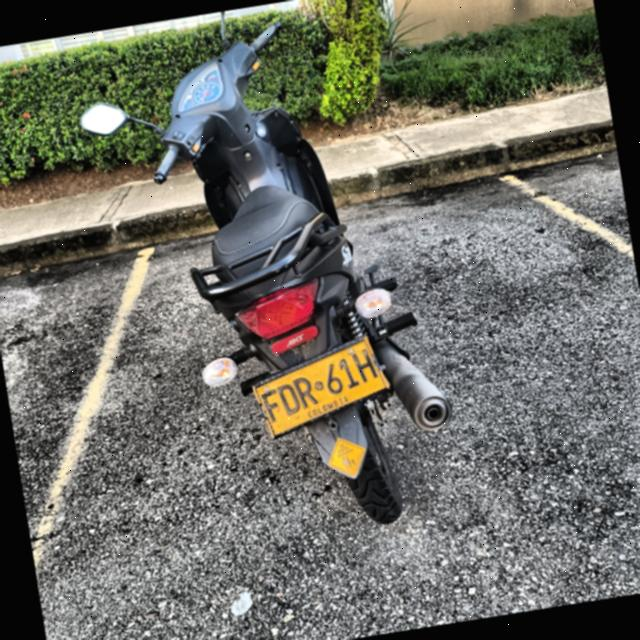plate: (253, 336, 391, 441)
